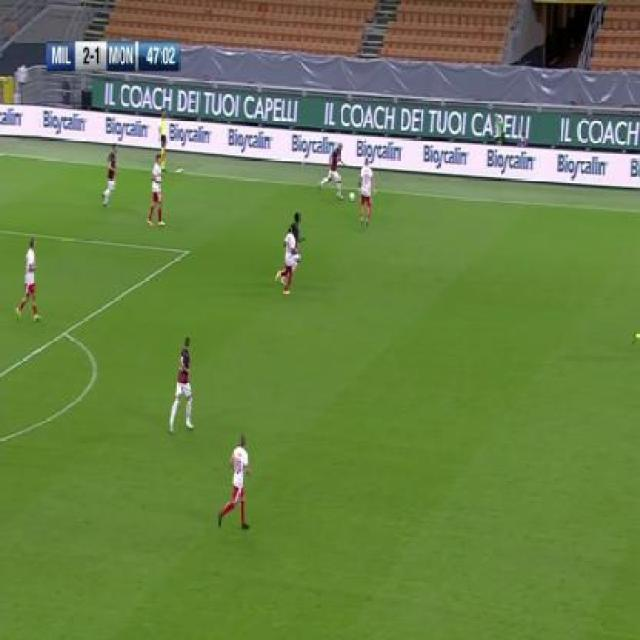ball: (348, 191, 356, 202)
player: (217, 434, 254, 534), (168, 335, 197, 435), (15, 236, 44, 322), (274, 227, 300, 296), (319, 140, 345, 200), (146, 154, 166, 228), (356, 157, 375, 228), (100, 147, 119, 209), (158, 106, 169, 169)
